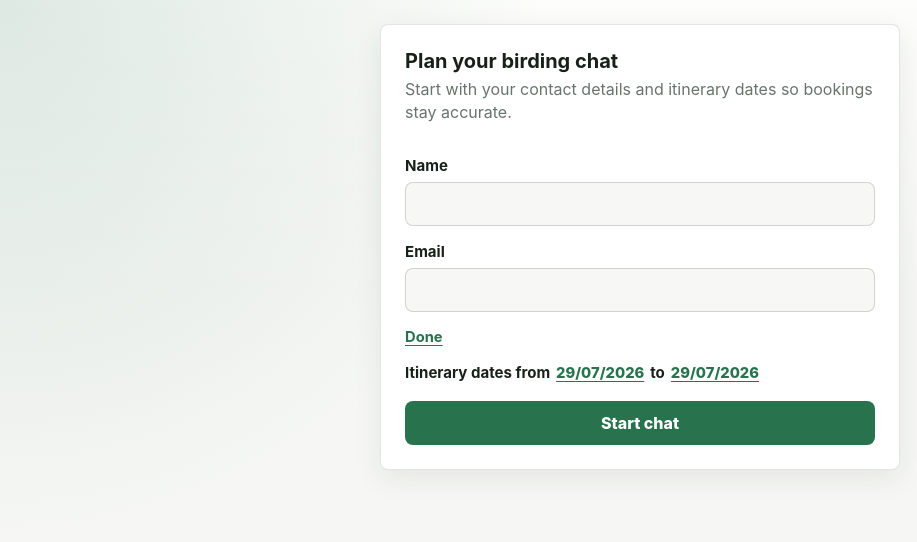
Test case: CustomerContextForm › blocks submission when reservation contact details are missing
Click the button "Start chat": point(640, 423) 405,401 -> 875,445
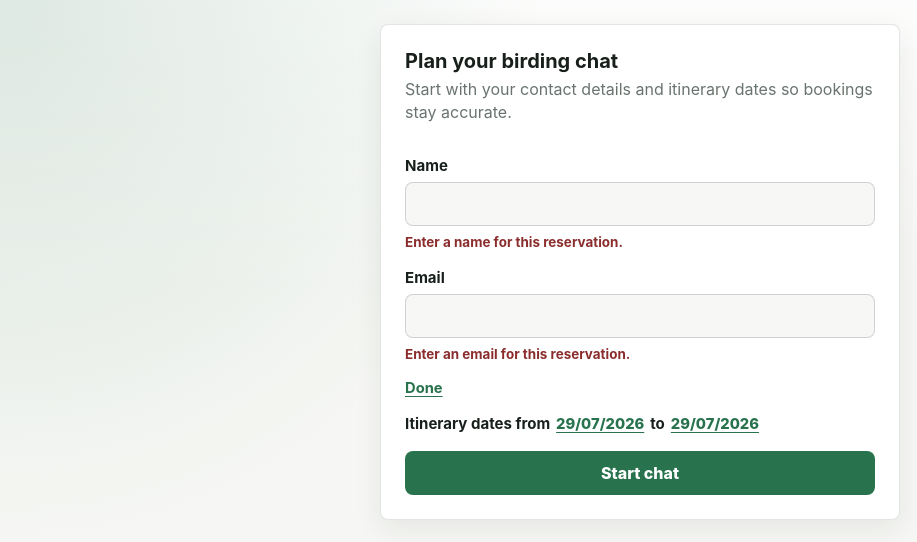
Check: the text "Enter a name for this reservation." is shown, box 405,234 -> 623,250
Check: the text "Enter an email for this reservation." is shown, box 405,346 -> 630,362
